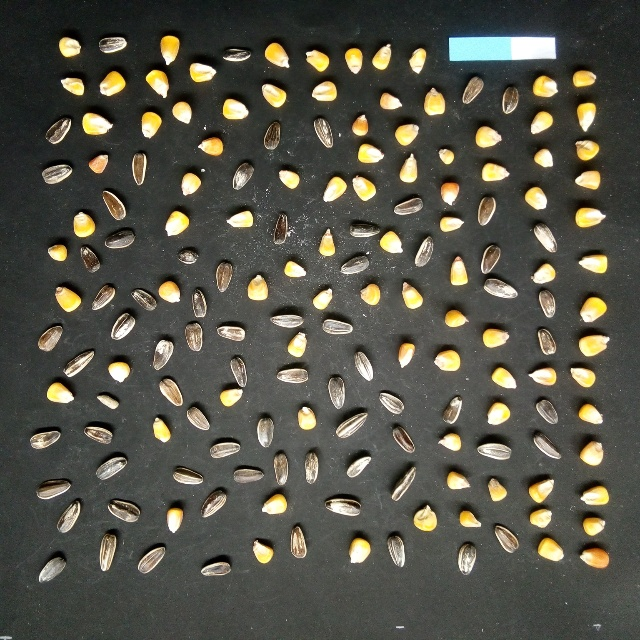escala: (448, 36, 556, 59)
girasol: (61, 343, 98, 380), (385, 461, 418, 502), (131, 542, 169, 576), (104, 495, 145, 526), (527, 428, 564, 462), (308, 114, 340, 153), (91, 449, 130, 481), (37, 158, 77, 189), (35, 552, 70, 587), (196, 485, 231, 520), (225, 351, 258, 388), (332, 409, 371, 440), (107, 309, 139, 346), (474, 238, 506, 275), (95, 529, 120, 576), (528, 219, 561, 254), (54, 499, 86, 535), (155, 372, 187, 407), (99, 186, 130, 222), (491, 521, 522, 557), (320, 494, 366, 518), (25, 424, 63, 453), (531, 395, 563, 429), (31, 476, 76, 500), (452, 540, 481, 577), (150, 334, 177, 373), (288, 521, 313, 563), (480, 276, 522, 301), (229, 155, 257, 192), (473, 438, 516, 462), (100, 225, 138, 252), (43, 114, 75, 146), (35, 322, 66, 355), (387, 422, 418, 455), (322, 371, 347, 411), (203, 436, 243, 461), (531, 325, 561, 358), (169, 461, 207, 487), (410, 233, 437, 269), (255, 409, 279, 449), (344, 450, 373, 483), (128, 150, 153, 188), (384, 532, 409, 570), (373, 389, 408, 416), (181, 317, 207, 353), (94, 33, 131, 58), (338, 250, 372, 277), (80, 422, 118, 446), (271, 448, 294, 487), (197, 557, 236, 580), (89, 281, 117, 313), (391, 193, 428, 217), (301, 448, 323, 488), (496, 84, 521, 119), (184, 404, 215, 432), (76, 243, 103, 275), (345, 216, 381, 240), (212, 258, 236, 294), (475, 191, 499, 227), (459, 73, 485, 106), (439, 393, 465, 426), (318, 315, 355, 338), (351, 348, 376, 382), (534, 286, 559, 320), (228, 463, 266, 485), (261, 117, 284, 153), (267, 310, 307, 330), (271, 208, 291, 247), (127, 287, 158, 312), (213, 322, 248, 343), (188, 284, 209, 318), (274, 365, 311, 384), (219, 42, 253, 62), (173, 246, 202, 267), (94, 391, 122, 412)
maiz: (574, 293, 612, 326), (78, 108, 117, 138), (533, 532, 567, 566), (396, 278, 428, 314), (576, 541, 612, 571), (50, 283, 82, 316), (572, 100, 602, 135), (571, 204, 609, 231), (261, 40, 293, 72), (142, 67, 173, 100), (472, 122, 507, 151), (575, 332, 615, 357), (410, 501, 440, 534), (217, 94, 252, 122), (161, 502, 189, 537), (307, 79, 344, 105), (42, 380, 79, 406), (528, 474, 557, 507), (578, 481, 612, 509), (98, 68, 128, 99), (527, 107, 557, 138), (293, 402, 322, 434), (575, 439, 607, 468), (370, 39, 396, 74), (576, 251, 611, 277), (479, 159, 515, 184), (258, 80, 289, 109), (162, 209, 193, 238), (420, 86, 449, 117), (391, 121, 422, 150), (489, 364, 520, 393), (137, 109, 165, 141), (258, 489, 290, 517), (526, 259, 559, 286), (430, 347, 463, 374), (158, 32, 183, 67), (485, 398, 514, 428), (168, 97, 196, 128), (350, 173, 378, 204), (529, 72, 561, 99), (447, 252, 470, 289), (185, 60, 219, 85), (483, 473, 510, 504), (355, 139, 387, 165), (480, 326, 512, 352), (578, 513, 610, 539), (347, 535, 372, 568), (571, 138, 604, 163), (397, 151, 421, 185), (70, 209, 98, 238), (248, 537, 276, 566), (524, 504, 553, 532), (302, 46, 332, 73), (377, 230, 407, 257), (195, 133, 226, 159), (437, 307, 472, 330), (103, 358, 135, 383), (567, 364, 599, 389), (155, 277, 183, 305), (436, 179, 464, 207), (522, 184, 550, 212), (321, 174, 347, 204), (575, 401, 605, 427), (57, 74, 88, 99), (224, 207, 255, 232), (407, 44, 432, 75), (571, 167, 602, 192), (393, 340, 418, 371), (526, 365, 559, 388), (245, 272, 270, 302), (443, 468, 474, 492), (310, 285, 337, 312), (177, 169, 203, 197), (375, 89, 404, 114), (286, 330, 311, 359), (349, 109, 372, 140), (342, 45, 364, 77), (529, 145, 556, 171), (316, 225, 337, 258), (150, 414, 173, 444), (569, 67, 599, 90), (357, 281, 383, 307), (56, 34, 83, 59), (435, 213, 467, 234), (435, 430, 464, 453), (275, 167, 303, 190), (217, 387, 247, 408), (86, 150, 111, 175), (458, 507, 485, 530), (280, 258, 307, 280), (434, 145, 461, 167), (44, 242, 69, 265)
